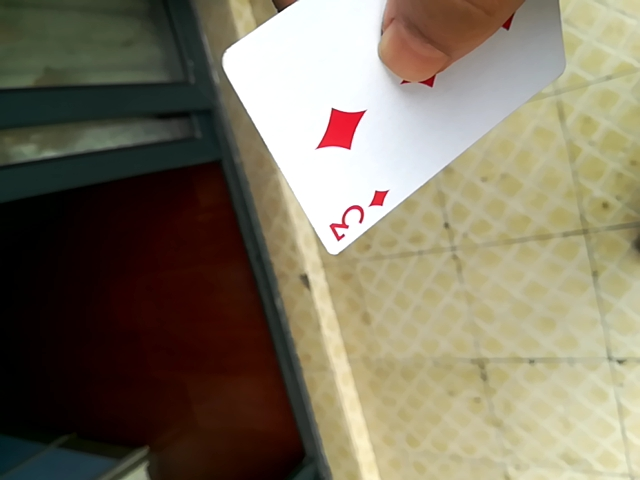fk 3: (203, 2, 559, 263)
